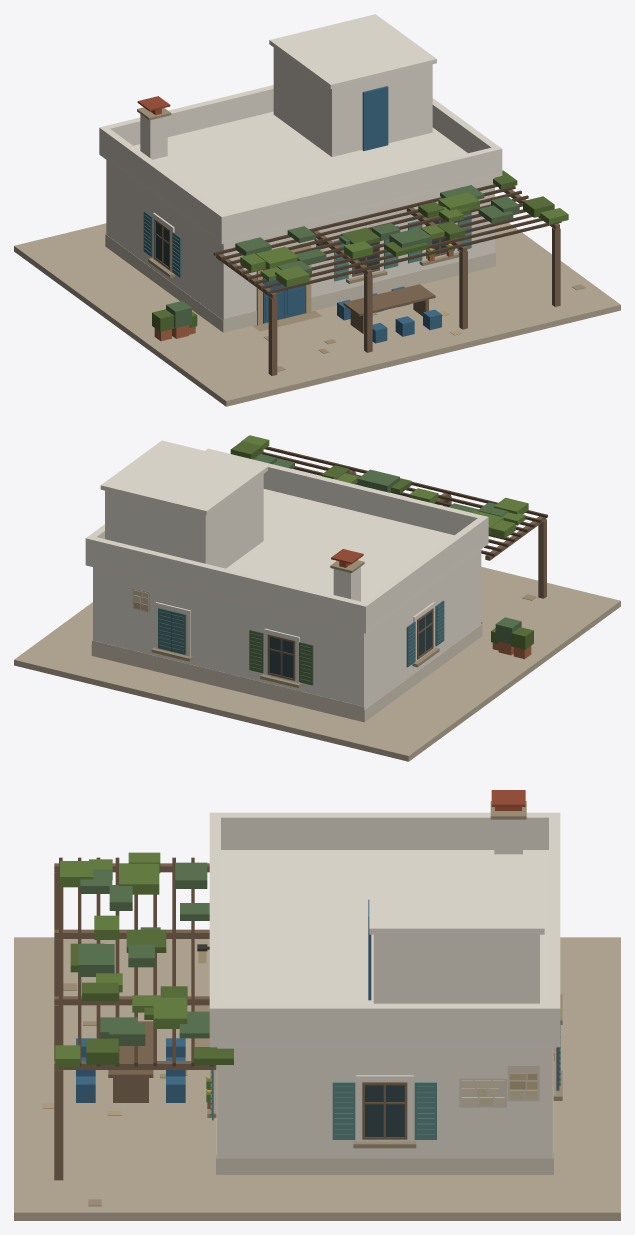
File: yazlik.glb
The picture shows the model from 3 angles, top to bottom: view 1: azimuth 30°, elevation 25°; view 2: azimuth 150°, elevation 25°; view 3: azimuth 270°, elevation 25°; orthographic projection. The views are drawn at different scales.
Visible parts, largest first — view 1: badana, zemin, dam, ahsap_koyu, ahsap, badana_kir, mavi_kapi, zeytin, asma, asma2, tas_koyu, kepenk (+3 smaller); view 2: badana, zemin, dam, badana_kir, ahsap_koyu, ahsap, kepenk, asma, zeytin, asma2, cam, yesil_kepenk (+1 smaller); view 3: zemin, badana, dam, ahsap, badana_kir, zeytin, asma, ahsap_koyu, asma2, kepenk2, mavi_kapi, cam (+3 smaller).
Part boxes in pixels (x1,y1,x2,y2): badana: [99, 48, 502, 320]; zemin: [14, 223, 620, 406]; dam: [99, 14, 502, 243]; ahsap_koyu: [213, 184, 561, 323]; ahsap: [154, 188, 560, 375]; badana_kir: [105, 231, 495, 332]; mavi_kapi: [263, 86, 441, 343]; zeytin: [166, 185, 519, 328]; asma: [240, 192, 568, 287]; asma2: [152, 170, 554, 331]; tas_koyu: [137, 107, 585, 371]; kepenk: [143, 211, 181, 277]; badana: [85, 448, 488, 709]; zemin: [14, 566, 620, 761]; dam: [85, 440, 488, 633]; badana_kir: [91, 588, 482, 722]; ahsap_koyu: [171, 446, 547, 651]; ahsap: [159, 450, 546, 680]; kepenk: [158, 600, 444, 667]; asma: [241, 435, 528, 538]; zeytin: [253, 454, 521, 644]; asma2: [230, 441, 533, 649]; cam: [269, 611, 431, 678]; yesil_kepenk: [249, 630, 313, 685]; zemin: [14, 937, 620, 1220]; badana: [209, 812, 560, 1158]; dam: [209, 850, 560, 1047]; ahsap: [54, 863, 557, 1180]; badana_kir: [216, 1066, 553, 1174]; zeytin: [78, 862, 209, 1045]; asma: [55, 852, 210, 1102]; ahsap_koyu: [59, 857, 213, 1066]; asma2: [70, 929, 233, 1064]; kepenk2: [210, 1070, 436, 1139]; mavi_kapi: [76, 899, 371, 1102]; cam: [365, 1085, 404, 1136].
Size of the model in its own units: 14.5 by 6.15 by 13.5.
